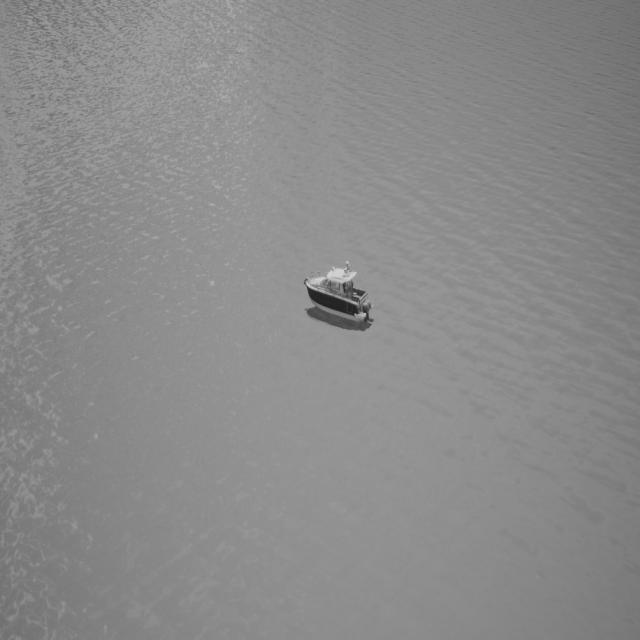ship: (305, 262, 373, 330)
